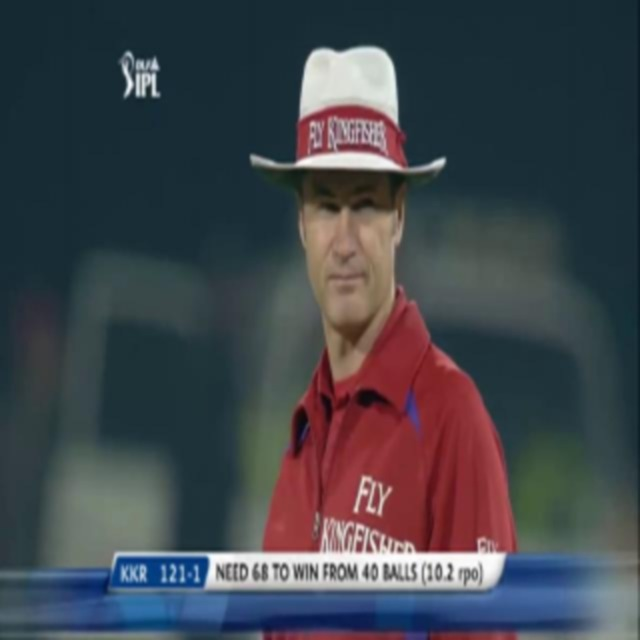No_Action: (241, 43, 523, 559)
